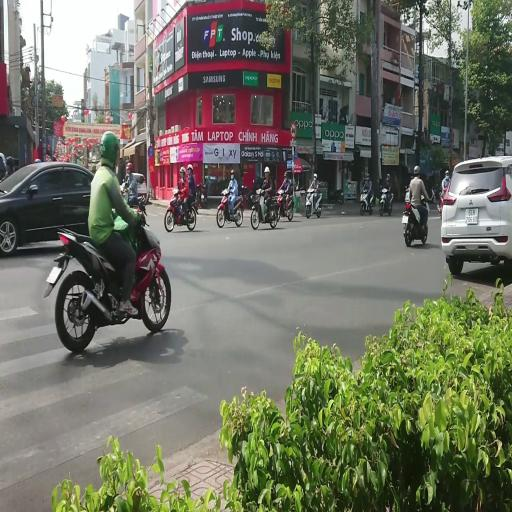bikes: (43, 196, 171, 352), (402, 190, 431, 246), (164, 187, 196, 232), (250, 188, 278, 230), (216, 188, 244, 228), (119, 173, 149, 204), (275, 189, 294, 222), (305, 188, 322, 218), (437, 178, 450, 215), (240, 179, 256, 208), (128, 194, 147, 218), (379, 186, 393, 216), (360, 187, 374, 215), (195, 182, 207, 208), (120, 175, 130, 202), (240, 184, 250, 208), (437, 188, 444, 216), (334, 188, 344, 204), (431, 185, 438, 203)
helmet: (100, 131, 119, 168), (5, 156, 14, 166), (128, 196, 137, 206), (179, 166, 186, 174), (414, 165, 420, 174), (187, 164, 193, 172), (230, 169, 235, 178), (264, 166, 270, 173), (405, 193, 410, 201), (127, 163, 132, 170), (365, 174, 370, 180), (173, 188, 178, 194), (434, 184, 439, 190), (256, 188, 261, 194), (223, 188, 228, 194), (386, 173, 390, 180), (314, 173, 318, 179), (445, 170, 449, 176), (284, 172, 288, 178), (34, 158, 40, 162), (431, 170, 435, 176), (405, 185, 409, 190), (439, 168, 442, 174), (383, 188, 387, 192), (230, 169, 234, 173), (252, 180, 255, 184)
